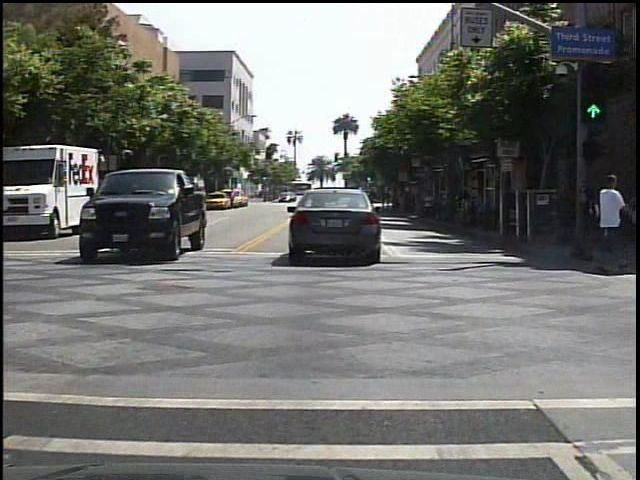person: (593, 164, 631, 271), (585, 172, 617, 268), (419, 189, 438, 224)
